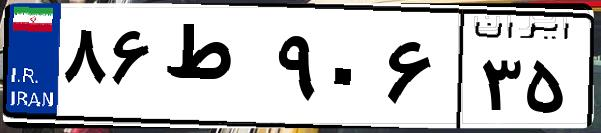0: (330, 28, 385, 110)
3: (475, 38, 525, 113)
5: (525, 38, 570, 115)
6: (385, 28, 445, 110), (110, 28, 158, 98)
8: (57, 26, 110, 100)
9: (270, 28, 330, 110)
ط: (158, 20, 270, 120)
